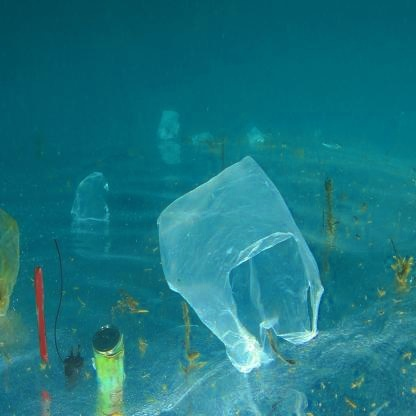can: (94, 324, 126, 390)
electronics: (53, 235, 85, 385)
pbag: (156, 154, 325, 374), (71, 170, 111, 224), (33, 265, 52, 364), (158, 110, 180, 140)
